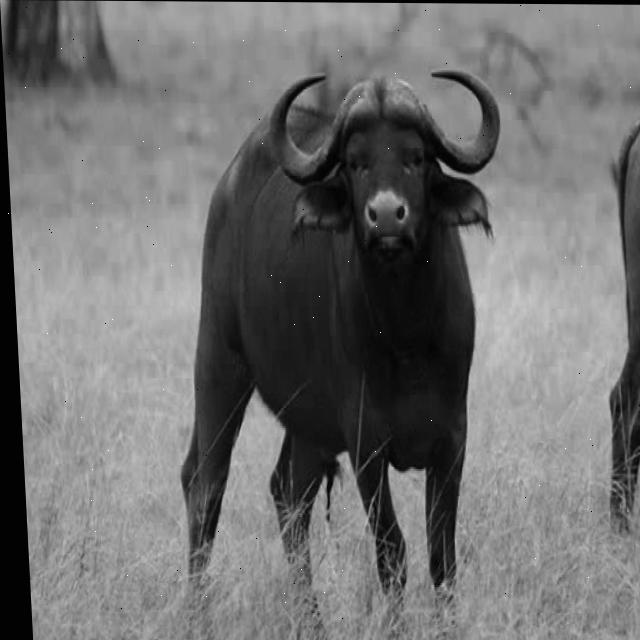Buffalo: (159, 70, 527, 631)
